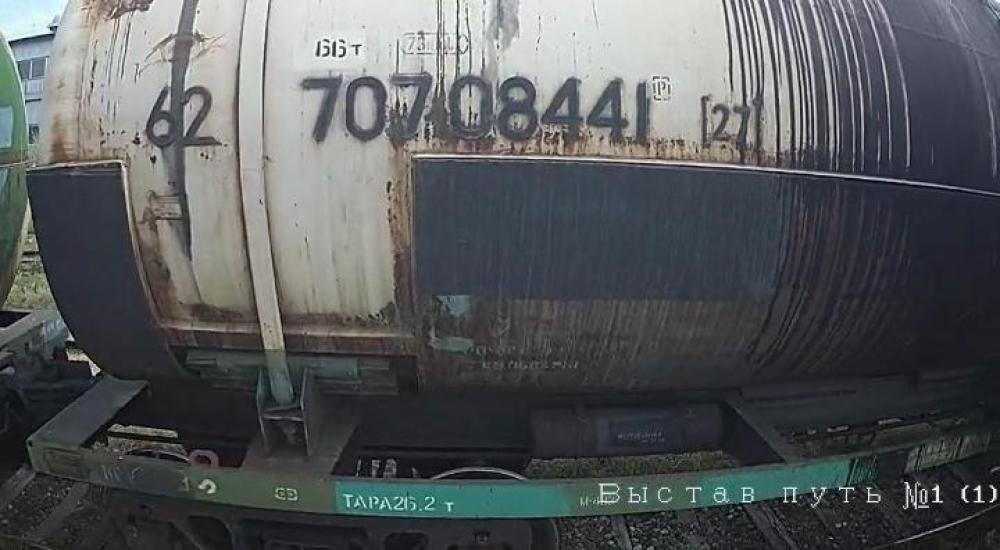Wagon-number: (300, 71, 656, 148)
